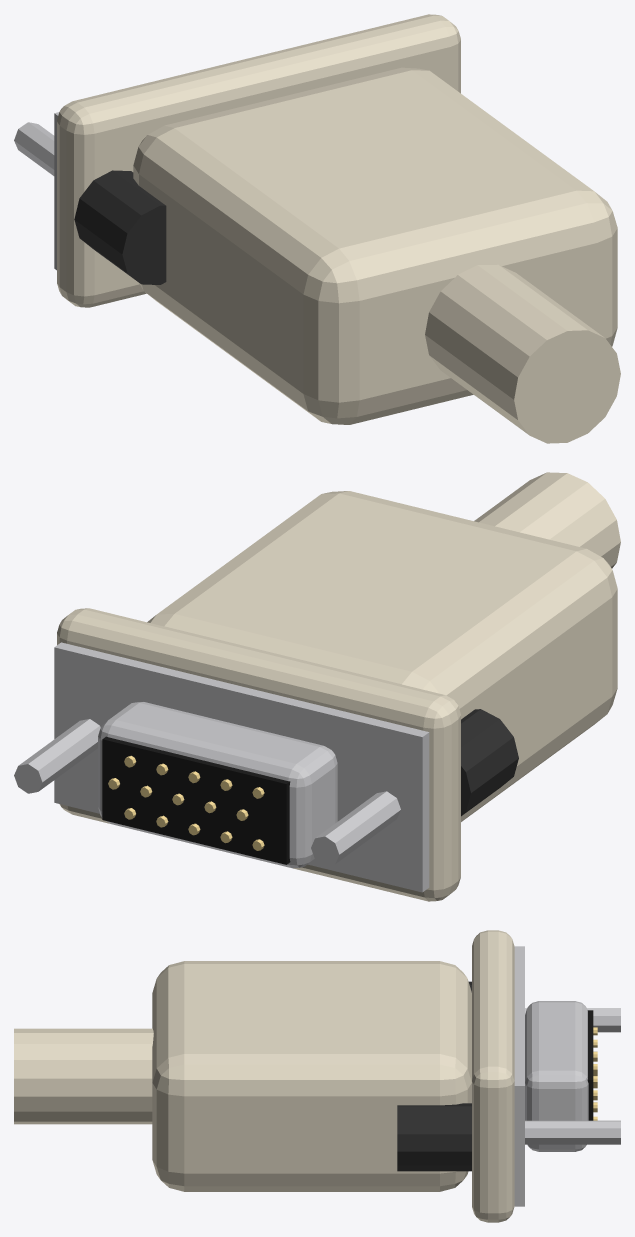
Rendered from cable_vga_plug.glb.
3 views of the same model, one above another, from view 1: azimuth 30°, elevation 25°; view 2: azimuth 150°, elevation 25°; view 3: azimuth 270°, elevation 25° (orthographic). The views are drawn at different scales.
Visible parts, largest first — view 1: plug_body; view 2: plug_body; view 3: plug_body.
Boxes of the visible parts, bbox=[...] form: plug_body: bbox=[14, 14, 620, 443]; plug_body: bbox=[14, 472, 620, 901]; plug_body: bbox=[14, 930, 620, 1222].
Size of the model in its own units: 0.0334 by 0.016 by 0.057.
